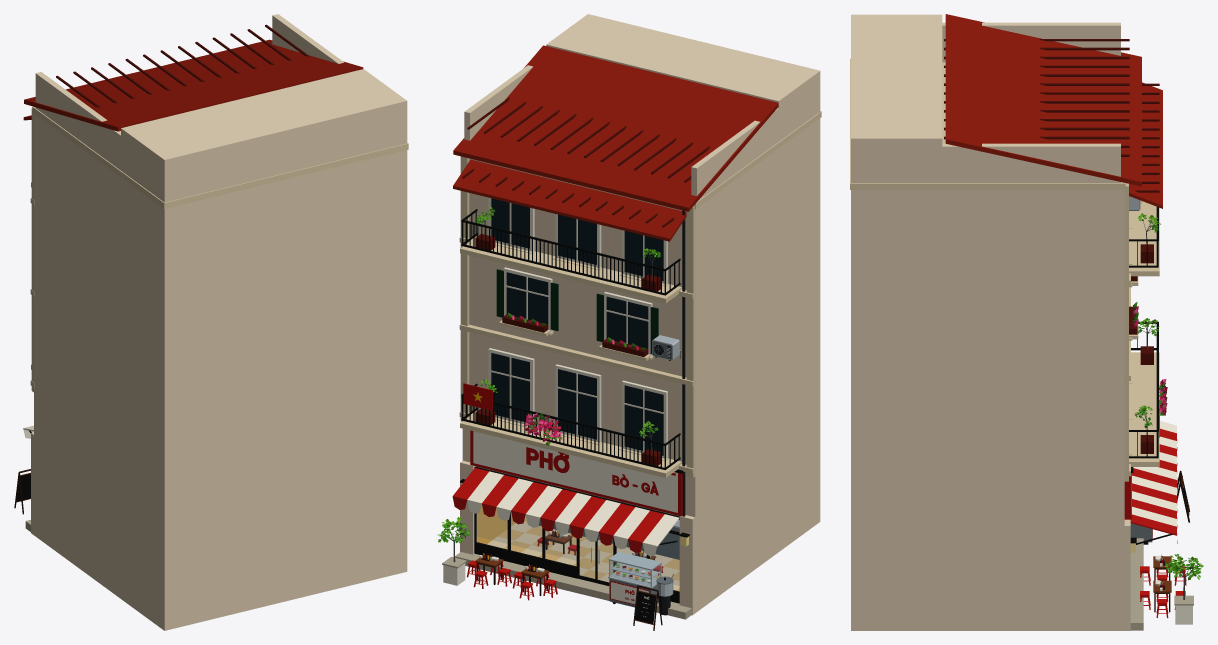
Rendered from PV_StreetShop00.fbx.
The picture shows the model from 3 angles, left to right: view 1: azimuth 30°, elevation 25°; view 2: azimuth 150°, elevation 25°; view 3: azimuth 270°, elevation 25°; orthographic projection. The views are drawn at different scales.
Parts seen in each view (by area): view 1: PV_StreetShop00_LOD0; view 2: PV_StreetShop00_LOD0; view 3: PV_StreetShop00_LOD0.
Boxes of the visible parts, <box> form: PV_StreetShop00_LOD0: <box>14,14,408,630</box>; PV_StreetShop00_LOD0: <box>437,14,821,630</box>; PV_StreetShop00_LOD0: <box>850,14,1203,630</box>.
Size of what is drawn, in the model's own units: 8.46 by 15.5 by 10.09.
Materials: 2 (1 with a texture image).
